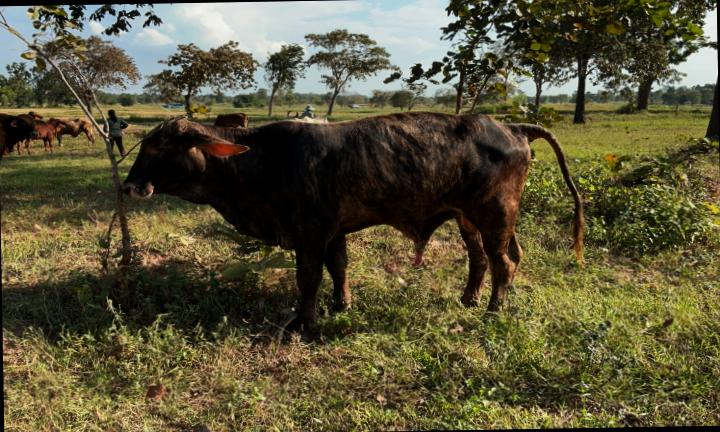Charolais: (123, 112, 583, 335)
